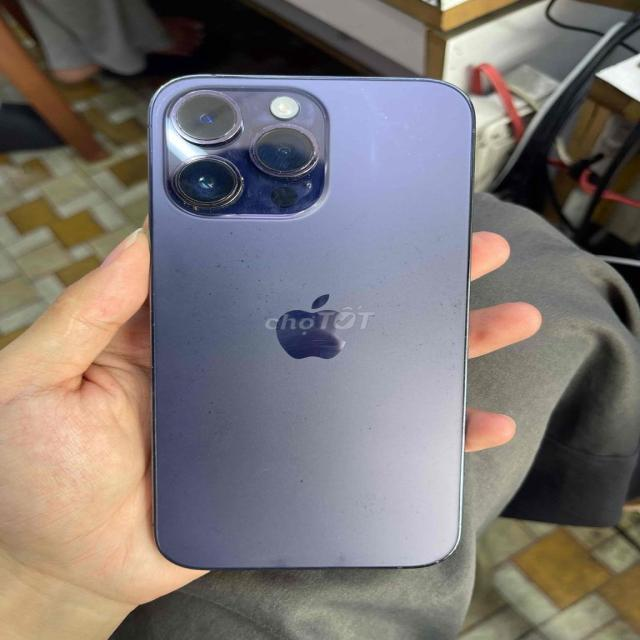gen_14: (137, 63, 476, 583), (160, 152, 254, 221), (249, 111, 327, 187)
